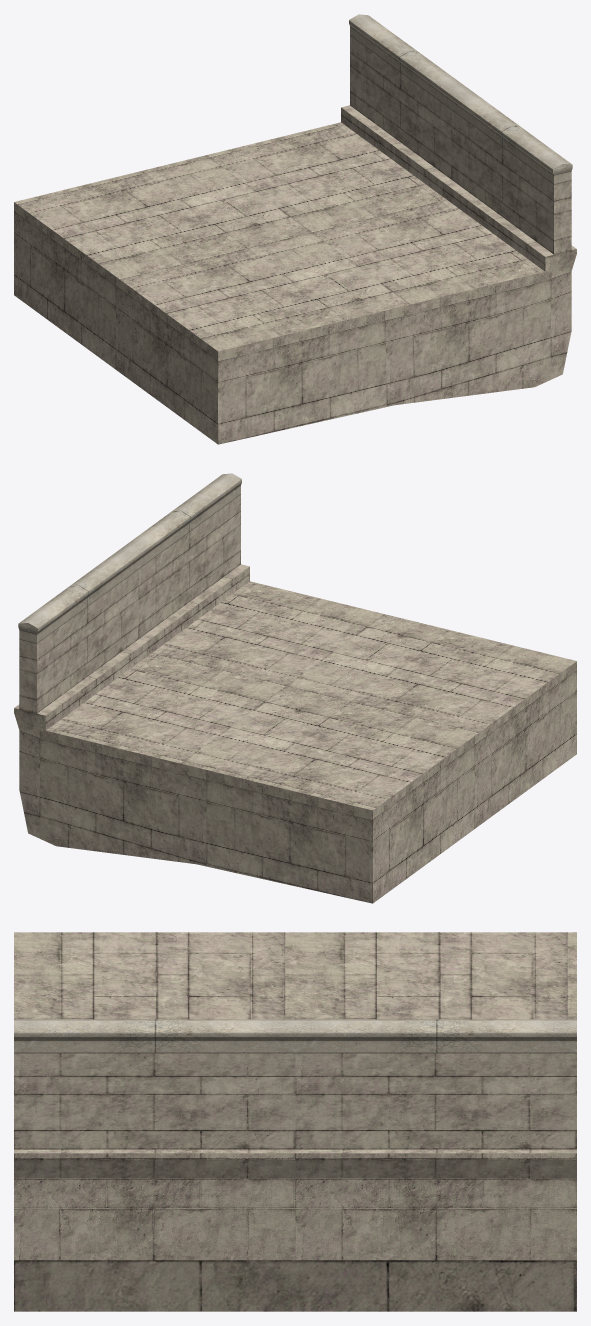
Rendered from FloatingMarbleDouble.dae.
The picture shows the model from 3 angles, top to bottom: view 1: azimuth 30°, elevation 25°; view 2: azimuth 150°, elevation 25°; view 3: azimuth 270°, elevation 25°; orthographic projection. The views are drawn at different scales.
Visible parts, largest first — view 1: FloatingMarbleDouble; view 2: FloatingMarbleDouble; view 3: FloatingMarbleDouble.
Boxes of the visible parts, x1,y1,x2,y2 form: FloatingMarbleDouble: (14, 14, 576, 444); FloatingMarbleDouble: (14, 473, 576, 903); FloatingMarbleDouble: (14, 932, 576, 1311).
Size of the model in its own units: 4.06 by 2.34 by 4.
2 materials, 2 textured.
